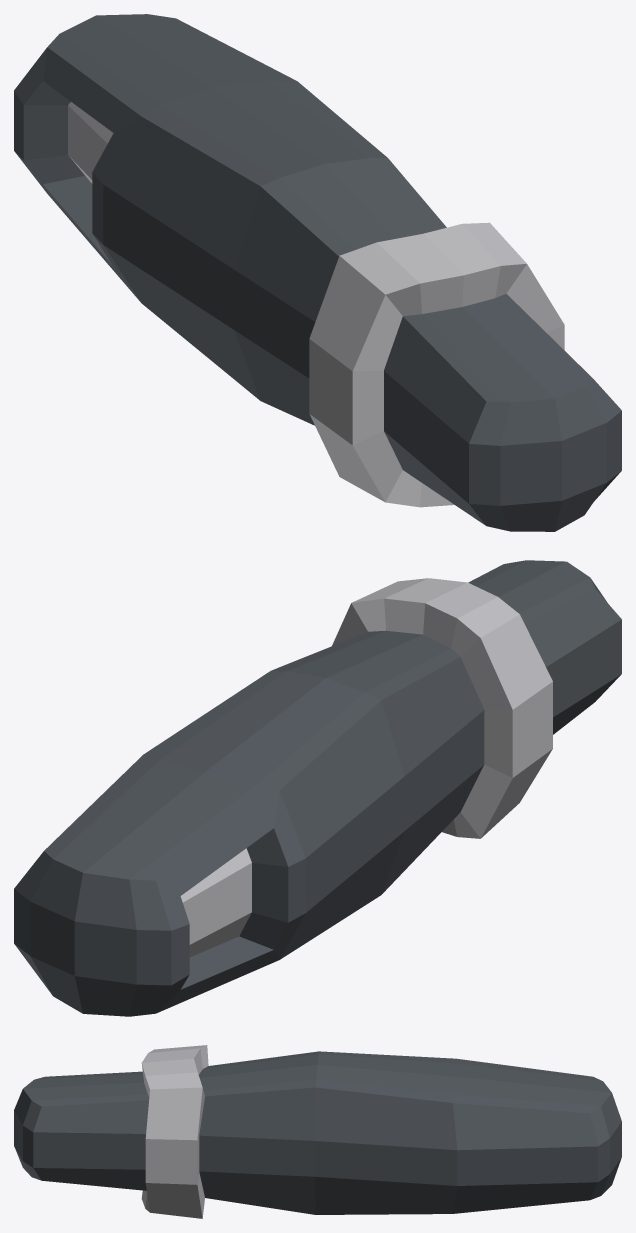
Rendered from Mothership_02_Detail_7.fbx.
3 renders of one model, top to bottom at view 1: azimuth 30°, elevation 25°; view 2: azimuth 150°, elevation 25°; view 3: azimuth 270°, elevation 25°, orthographic. The views are drawn at different scales.
Visible parts, largest first — view 1: Mothership_02_Detail_7; view 2: Mothership_02_Detail_7; view 3: Mothership_02_Detail_7.
Part boxes in pixels (<box>): Mothership_02_Detail_7: <box>14,14,621,531</box>; Mothership_02_Detail_7: <box>14,560,621,1016</box>; Mothership_02_Detail_7: <box>14,1045,621,1218</box>.
Bounding box in the file's own units: 198 × 202 × 760.
Materials: 1 (1 with a texture image).
